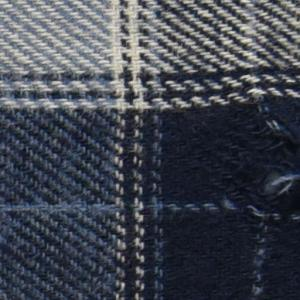Damage: (188, 63, 300, 268)
